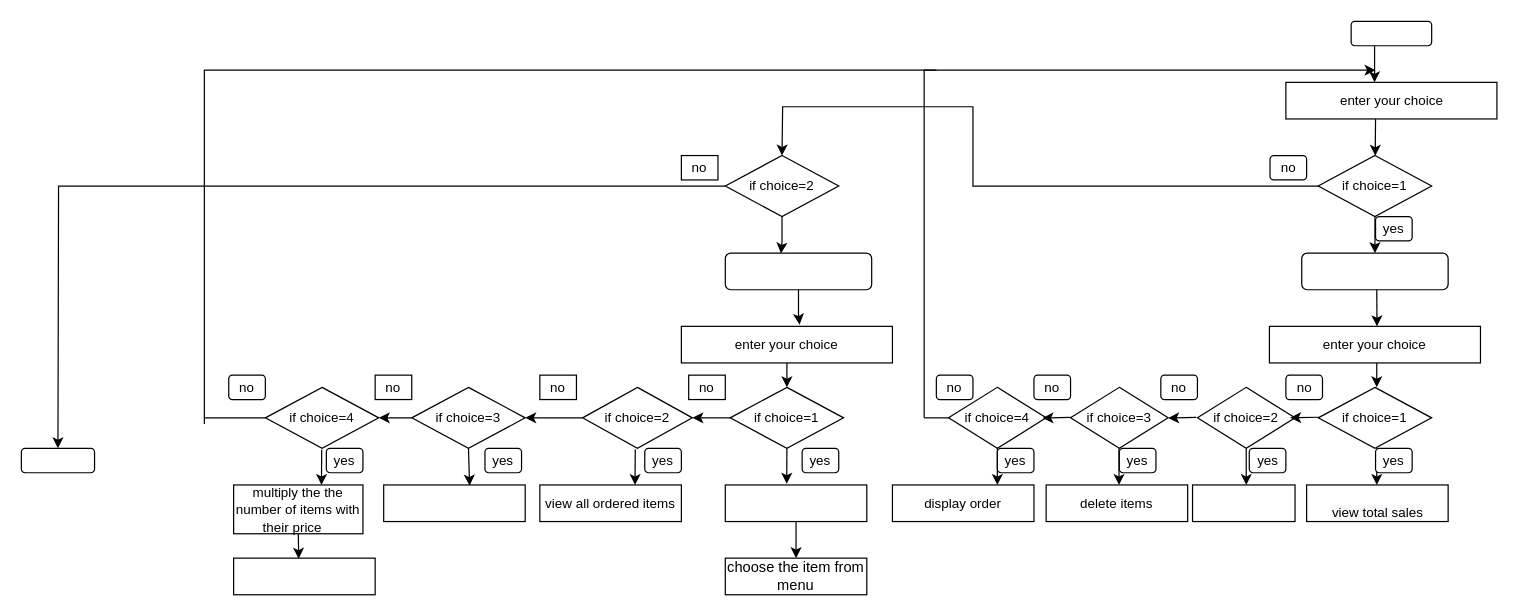
Some shapes in this 1519 by 616 pixel diagram are drawn without their labels. Here are the shapes that lost their labels. From the top down, the centre of each, then its label:
point 1391,33: Start
point 798,271: go to customer section
point 1374,271: go to admin section
point 57,460: exit
point 453,503: delete the item from ordered items
point 795,503: place your order
point 1243,503: add new items
point 303,576: display the final bill
